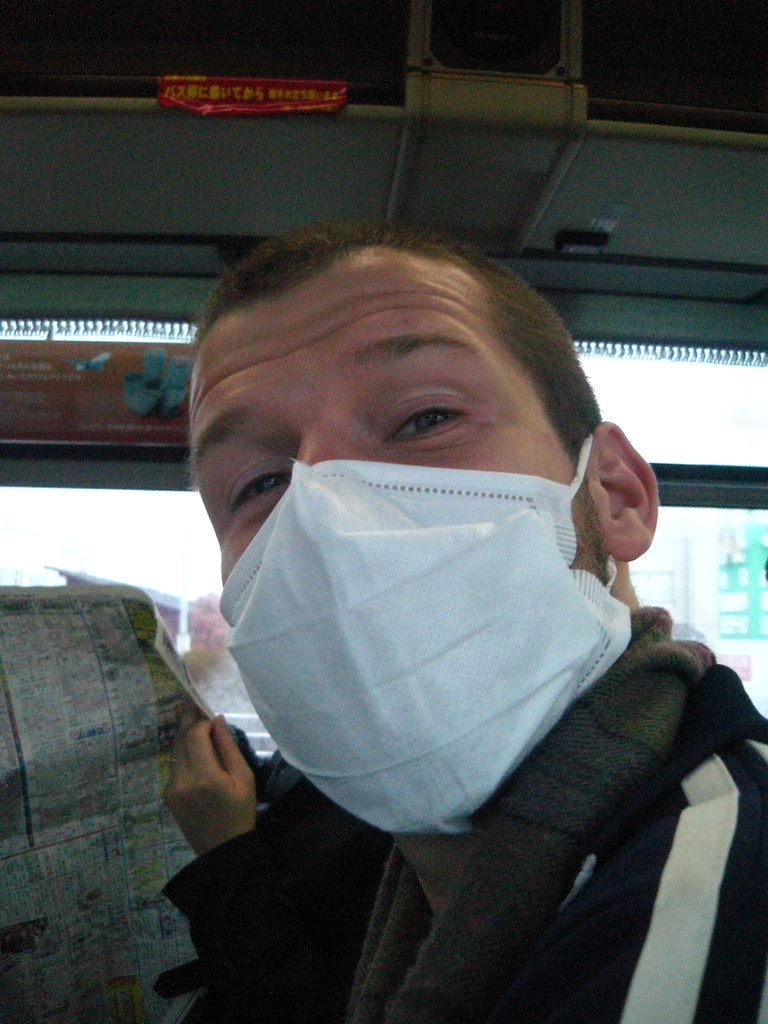surgical: (192, 455, 648, 836)
